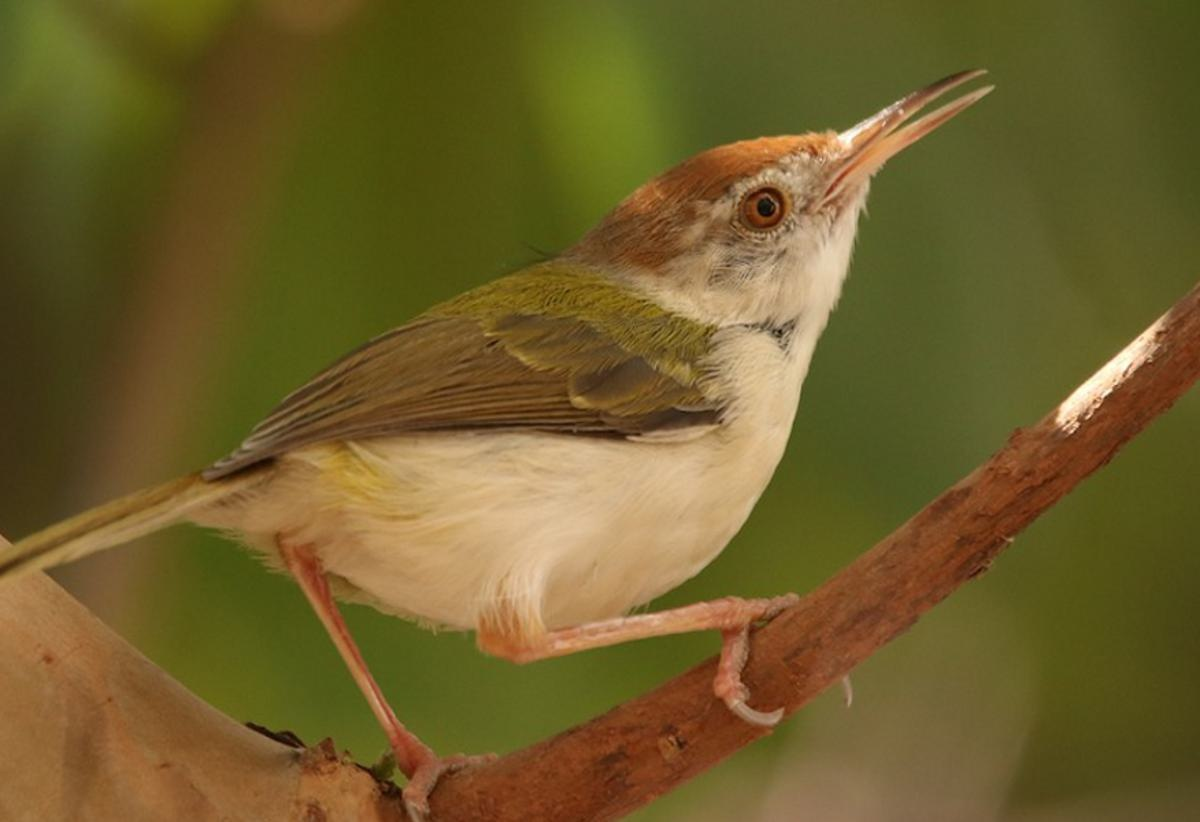tailorbird: (80, 69, 986, 743)
